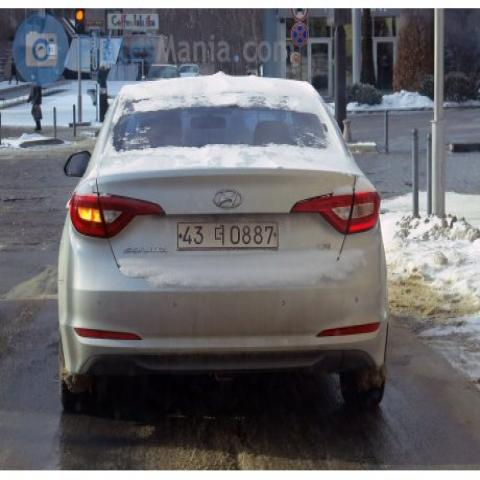LP: (169, 204, 285, 258)
